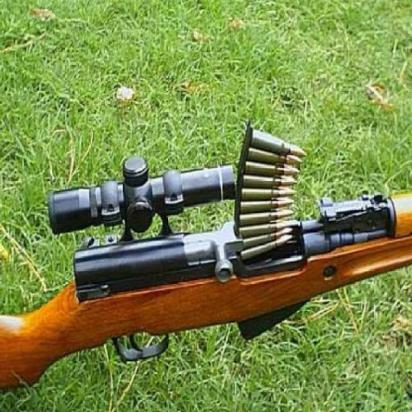Gun: (30, 117, 383, 379)
